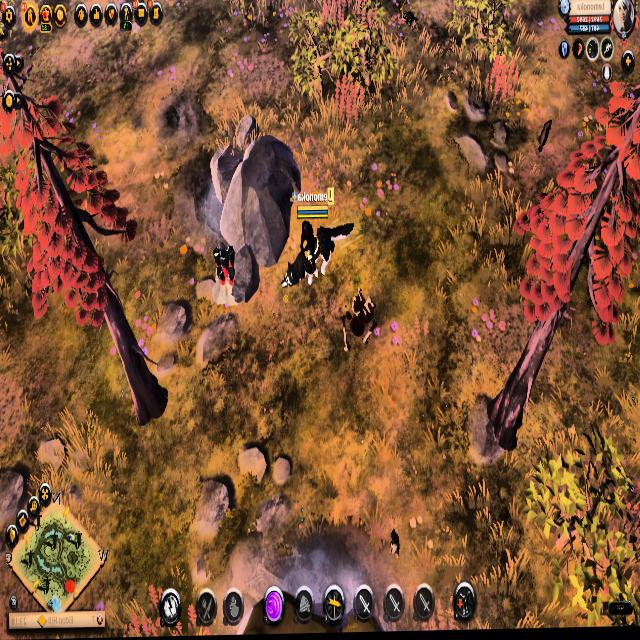ore tier 5: (209, 242, 243, 307)
wood tier 5: (0, 78, 140, 327), (512, 82, 640, 347)
